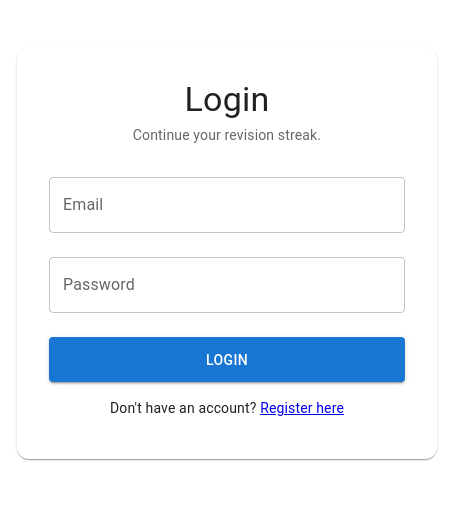
Test case: Login page › shows error when API returns non-JSON content type
Type "user@example.com" into the field labelled "Email". click: (227, 206)
box: [49,178,405,234]
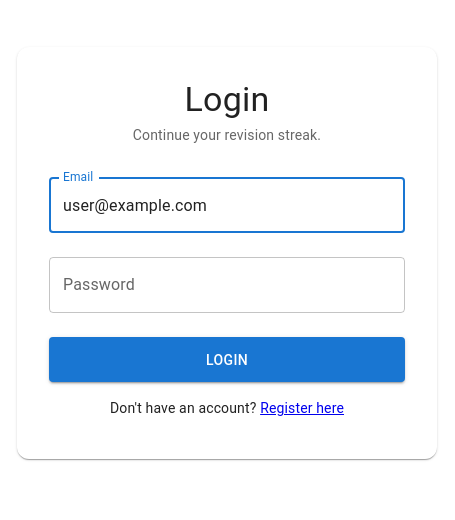
Type "password123" into the password field labelled "Password". click: (227, 286)
box: [49,258,405,314]
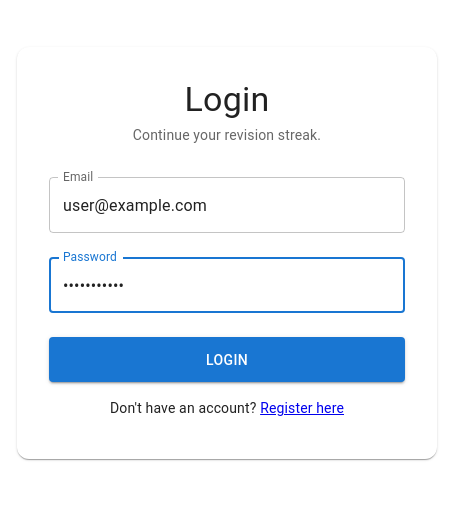
Click the button "Login". click: (227, 360)
box: [49,338,405,382]
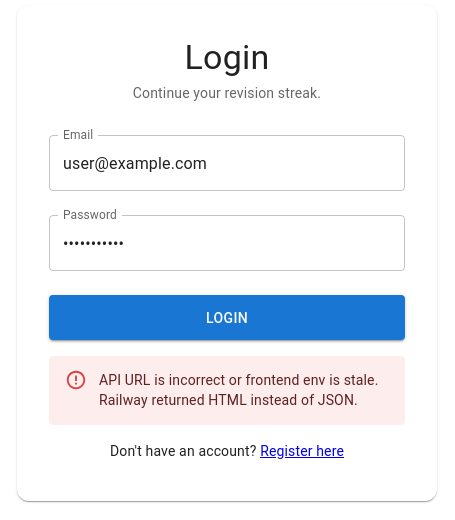
Check: the message shows "returned html instead of json", box [99,372,378,408]
